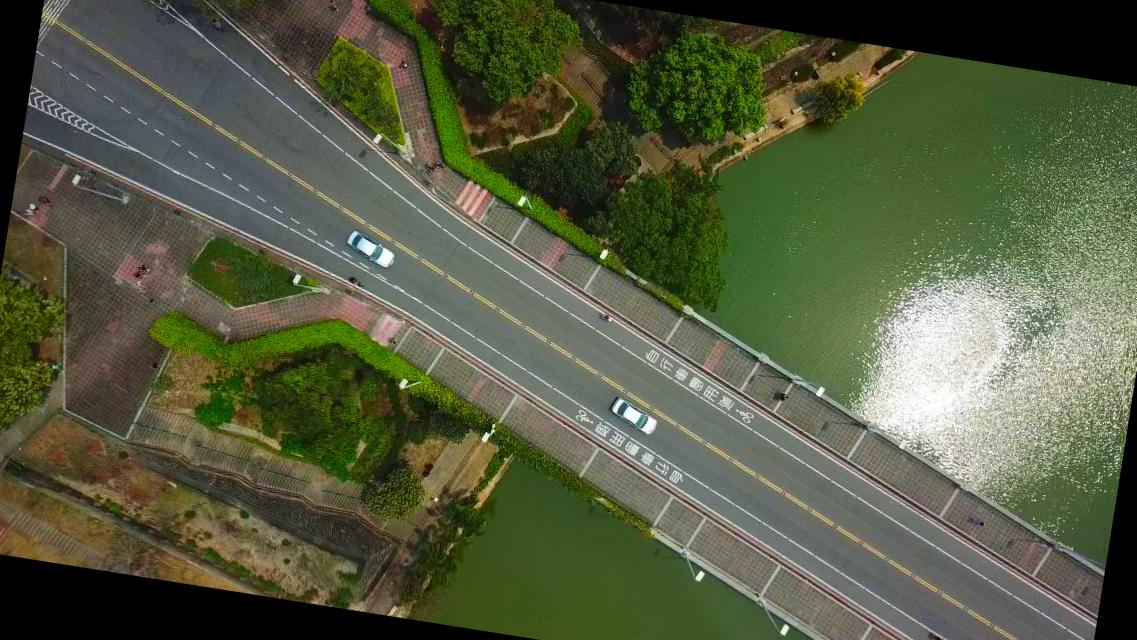vehicle: (342, 227, 398, 270), (606, 394, 660, 436)
